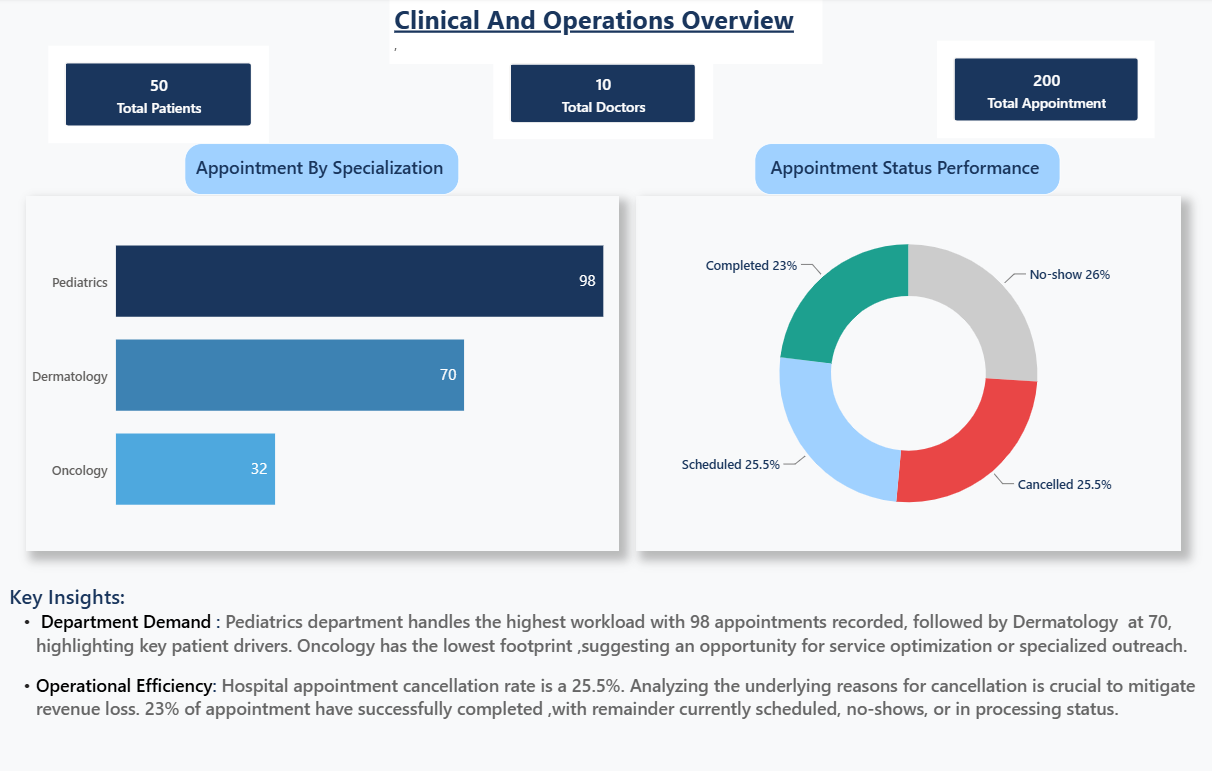

The page's visual inventory and layout, read from the dashboard file:
{"tool":"powerbi","page":{"name":"Clinical & Operations","canvas":[1280,850],"ordinal":0},"visuals":[{"type":"textbox","box":[412.5,0,454.9,70.4],"z":0},{"type":"cardVisual","fields":{"Data":["patients.Total Patients"]},"box":[54.5,51.8,231.8,102.3],"z":1000},{"type":"cardVisual","fields":{"Data":["appointments.Total Appointment"]},"box":[988.4,46.4,229,102.3],"z":2000},{"type":"cardVisual","fields":{"Data":["doctors.Total Doctors"]},"box":[521.9,52.1,231,97.2],"z":3000},{"type":"textbox","box":[7.2,609.8,1266,240.5],"z":4000},{"type":"clusteredBarChart","fields":{"Category":["doctors.specialization"],"Y":["CountNonNull(appointments.appointment_id)"]},"box":[30.4,208.6,622.9,373.7],"z":5000},{"type":"donutChart","fields":{"Category":["appointments.status"],"Y":["CountNonNull(appointments.appointment_id)"]},"box":[672.1,208.6,573.6,373.7],"z":6000},{"type":"textbox","box":[197.7,154.1,289,54.5],"z":7000},{"type":"textbox","box":[796.2,154.1,321.7,54.5],"z":8000}]}

Visuals, with their boxes on the page's 1280x850 design canvas (x1, y1, x2, y2). These are canvas units, not pixel positions in the 1212x771 screenshot, which may show the page scaled, cropped or inside an application window:
textbox: (x1=412, y1=0, x2=867, y2=70)
cardVisual - patients.Total Patients: (x1=54, y1=52, x2=286, y2=154)
cardVisual - appointments.Total Appointment: (x1=988, y1=46, x2=1217, y2=149)
cardVisual - doctors.Total Doctors: (x1=522, y1=52, x2=753, y2=149)
textbox: (x1=7, y1=610, x2=1273, y2=850)
clusteredBarChart - doctors.specialization x CountNonNull(appointments.appointment_id): (x1=30, y1=209, x2=653, y2=582)
donutChart - appointments.status x CountNonNull(appointments.appointment_id): (x1=672, y1=209, x2=1246, y2=582)
textbox: (x1=198, y1=154, x2=487, y2=209)
textbox: (x1=796, y1=154, x2=1118, y2=209)
